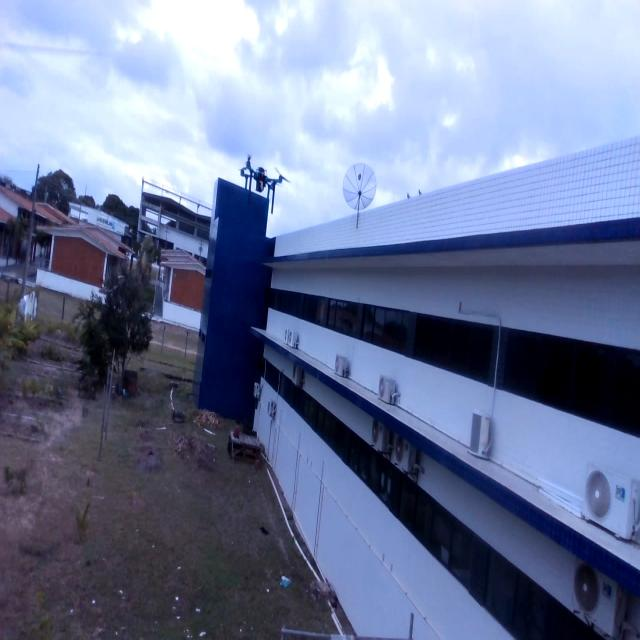-uav-: (233, 138, 294, 231)
